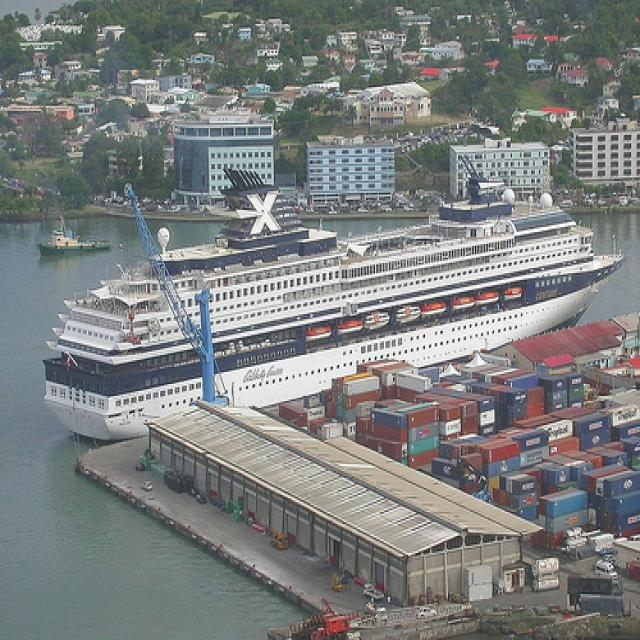boat: (33, 160, 631, 445), (32, 211, 115, 265)
